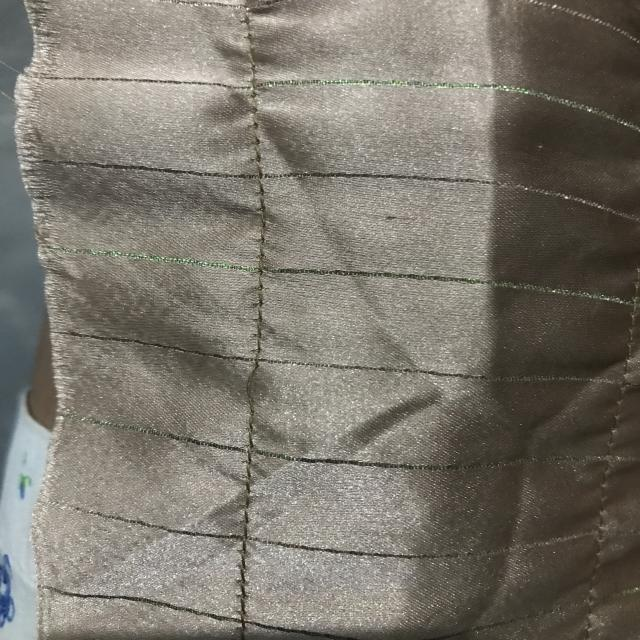good: (244, 152, 292, 275), (218, 459, 273, 545)
skip: (215, 356, 272, 414)
